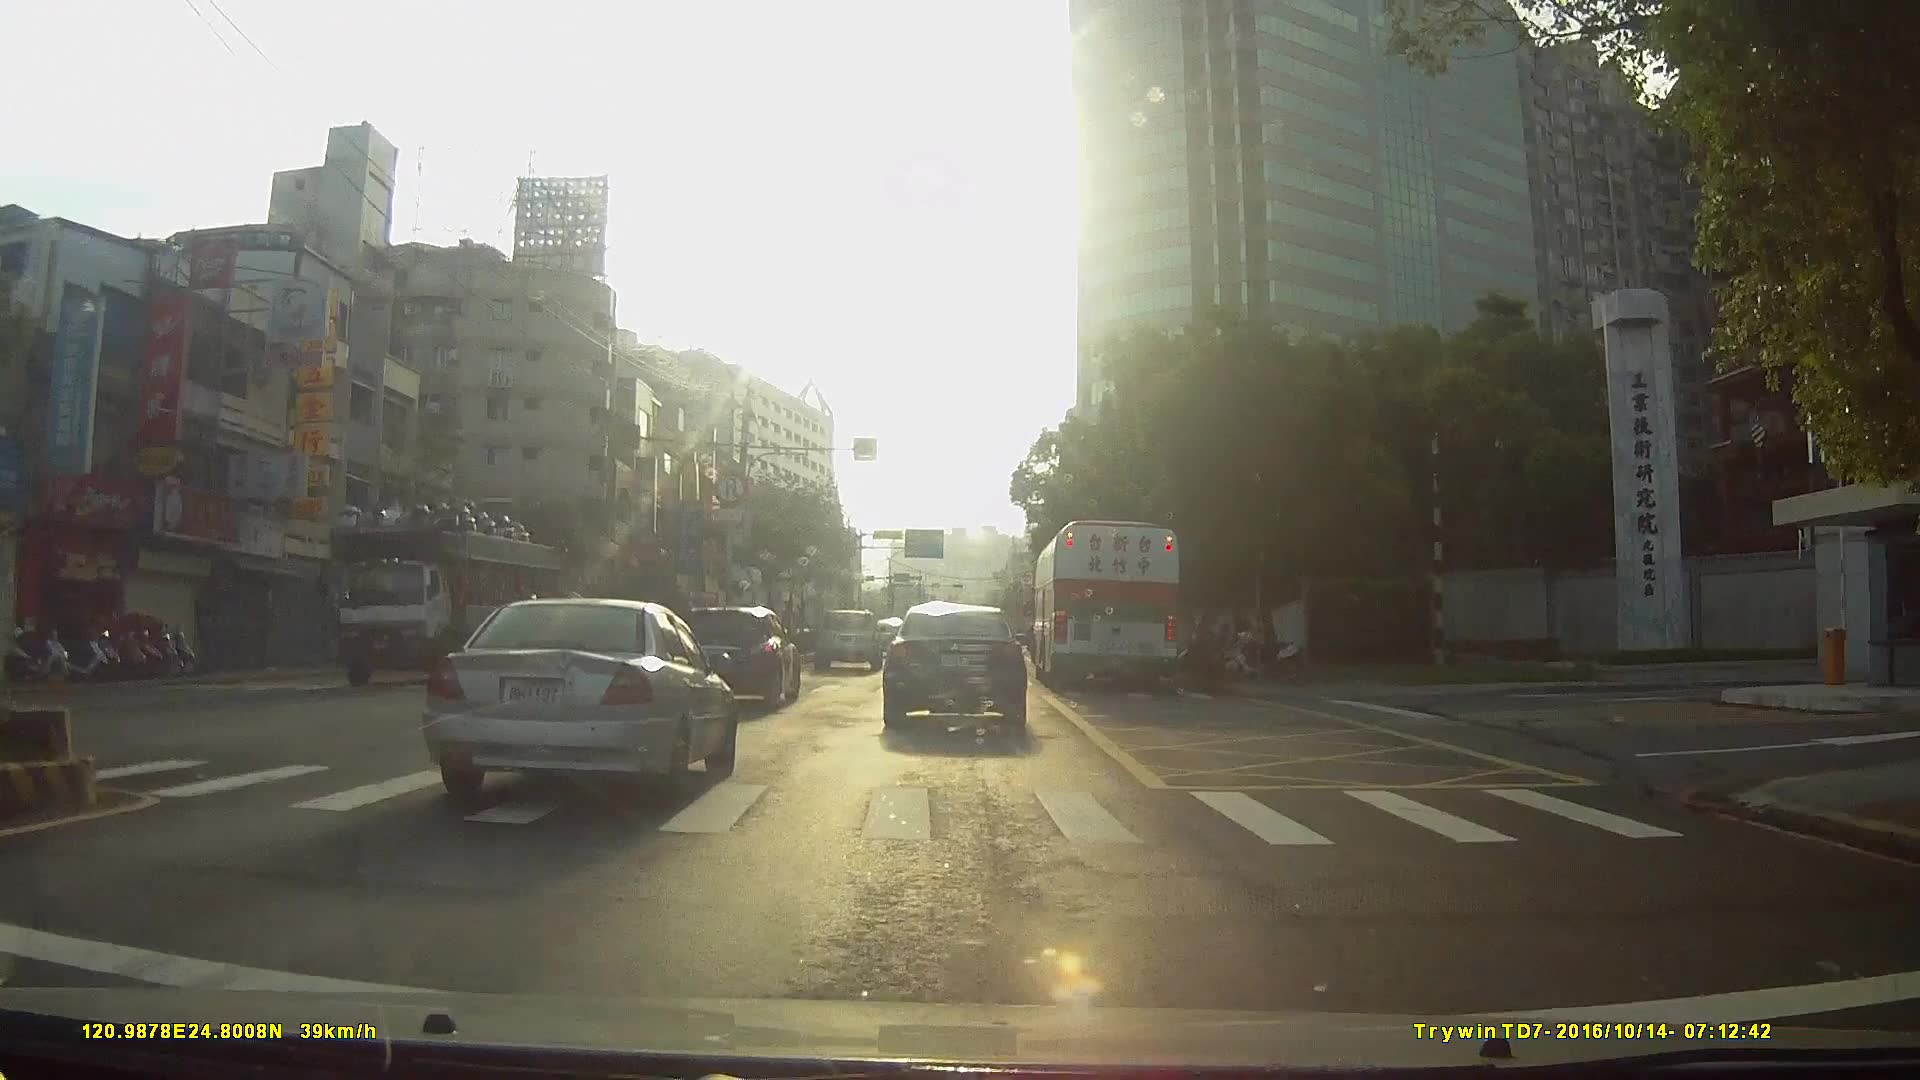vehicle: (411, 595, 735, 807), (322, 479, 568, 702), (1033, 514, 1184, 694), (878, 599, 1026, 731), (673, 607, 800, 709), (814, 608, 884, 673)
